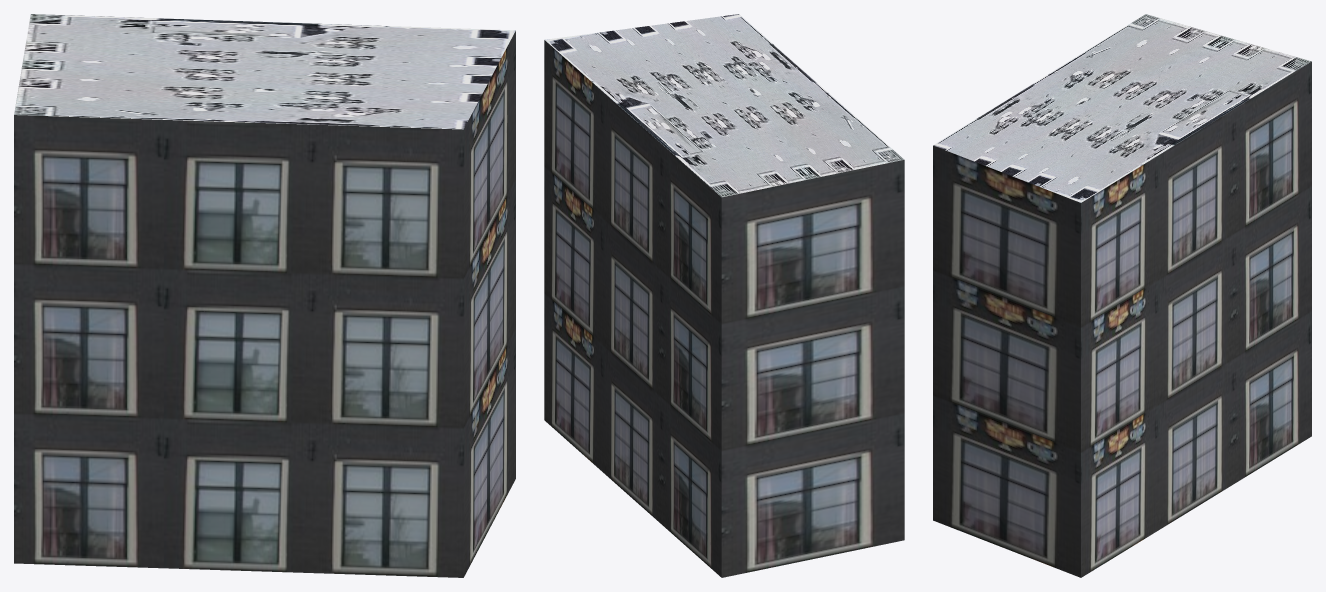
Rendered from ResTex__3629.fbx.
The picture shows the model from 3 angles, left to right: view 1: azimuth 30°, elevation 25°; view 2: azimuth 150°, elevation 25°; view 3: azimuth 270°, elevation 25°; orthographic projection. The views are drawn at different scales.
Visible parts, largest first — view 1: CityEngineMaterial_22_m, CityEngineMaterial_m; view 2: CityEngineMaterial_22_m, CityEngineMaterial_m; view 3: CityEngineMaterial_22_m, CityEngineMaterial_m.
Boxes of the visible parts, bbox=[...] form: CityEngineMaterial_22_m: bbox=[14, 31, 515, 577]; CityEngineMaterial_m: bbox=[14, 14, 515, 129]; CityEngineMaterial_22_m: bbox=[544, 40, 904, 577]; CityEngineMaterial_m: bbox=[544, 14, 904, 197]; CityEngineMaterial_22_m: bbox=[933, 61, 1311, 577]; CityEngineMaterial_m: bbox=[933, 14, 1311, 202].
Bounding box in the file's own units: 9.73 × 9 × 8.24.
Materials: 2 (2 with a texture image).
